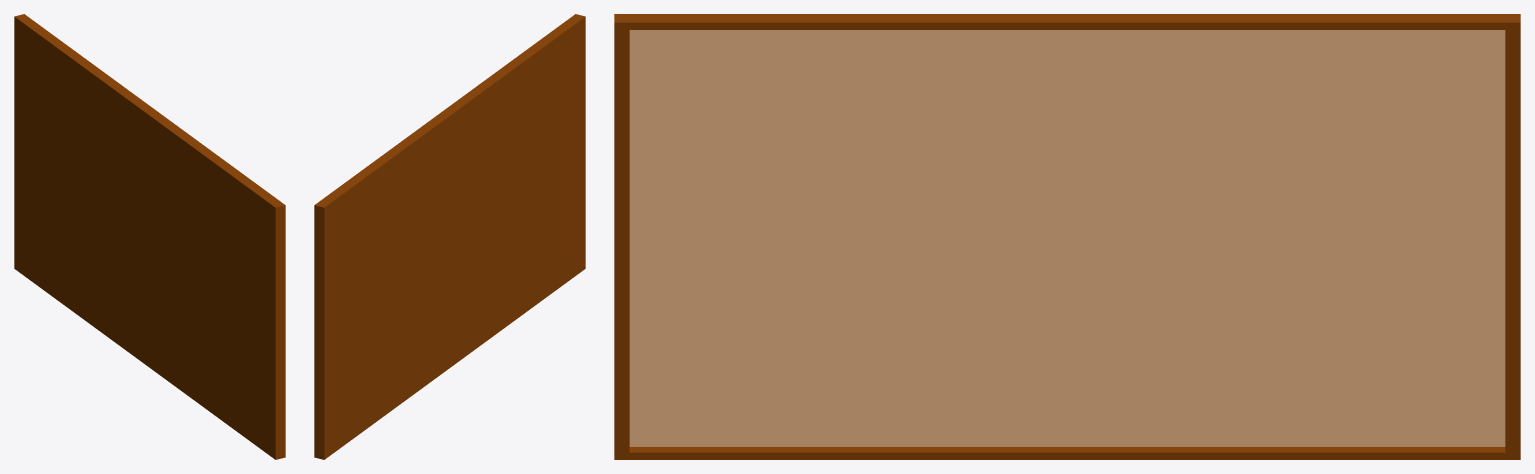
The model's file is board.fbx.
3 renders of one model, left to right at view 1: azimuth 30°, elevation 25°; view 2: azimuth 150°, elevation 25°; view 3: azimuth 270°, elevation 25°, orthographic. The views are drawn at different scales.
Visible parts, largest first — view 1: Billboard; view 2: Billboard; view 3: Billboard.
Boxes of the visible parts, x1=… form: Billboard: x1=14, y1=14, x2=285, y2=459; Billboard: x1=314, y1=14, x2=585, y2=459; Billboard: x1=614, y1=14, x2=1520, y2=459.
Bounding box in the file's own units: 3.43 × 81.4 × 153.
